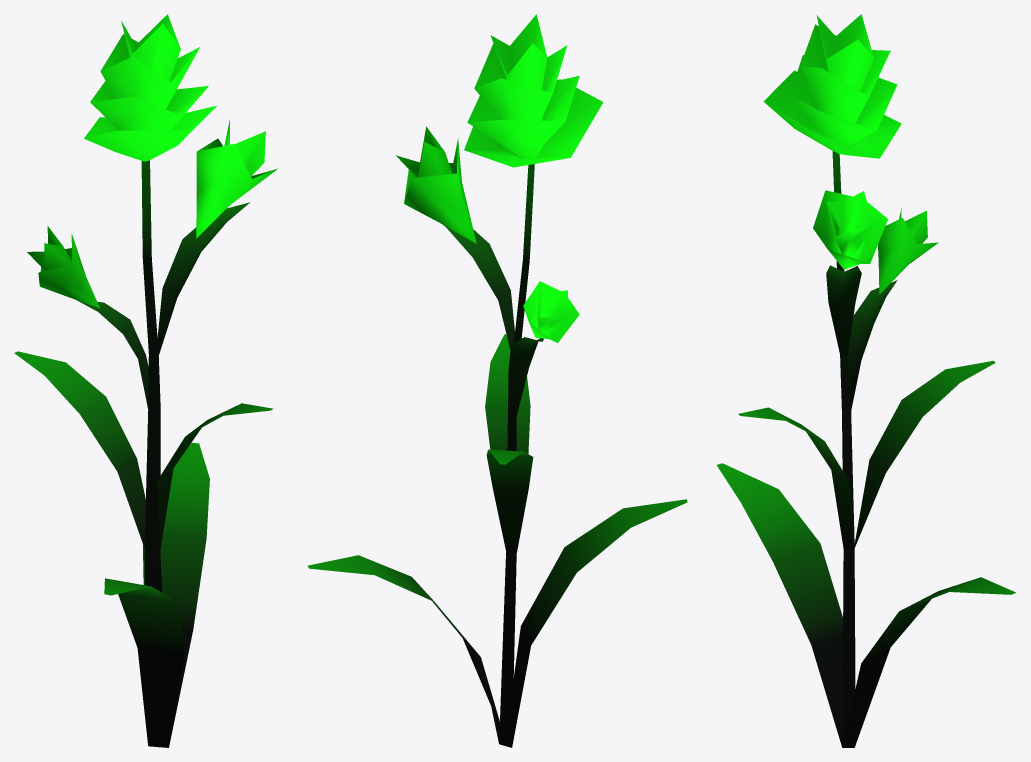
Rendered from IL3DN_Plant_Flower_03.fbx.
3 renders of one model, left to right at view 1: azimuth 30°, elevation 25°; view 2: azimuth 150°, elevation 25°; view 3: azimuth 270°, elevation 25°, orthographic. The views are drawn at different scales.
Visible parts, largest first — view 1: Nature_Plant_Flower_03; view 2: Nature_Plant_Flower_03; view 3: Nature_Plant_Flower_03.
Boxes of the visible parts, x1,y1,x2,y2 form: Nature_Plant_Flower_03: [14, 14, 278, 747]; Nature_Plant_Flower_03: [308, 14, 687, 747]; Nature_Plant_Flower_03: [716, 14, 1015, 747].
Size of the model in its own units: 13.3 by 38.77 by 14.57.
